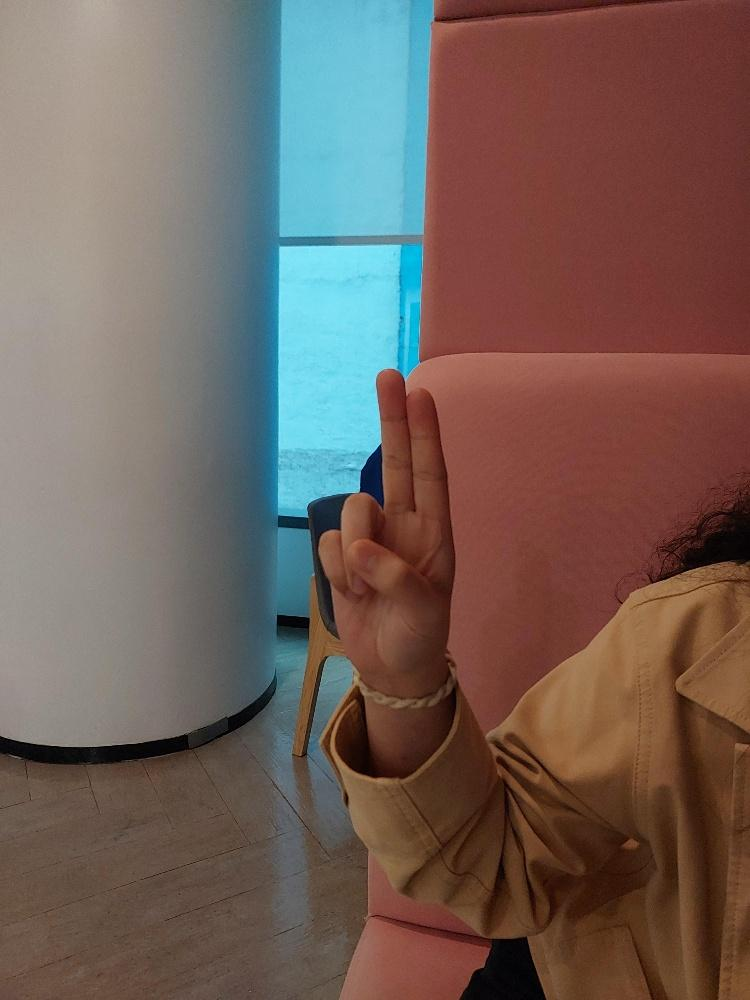u: (312, 360, 461, 689)
